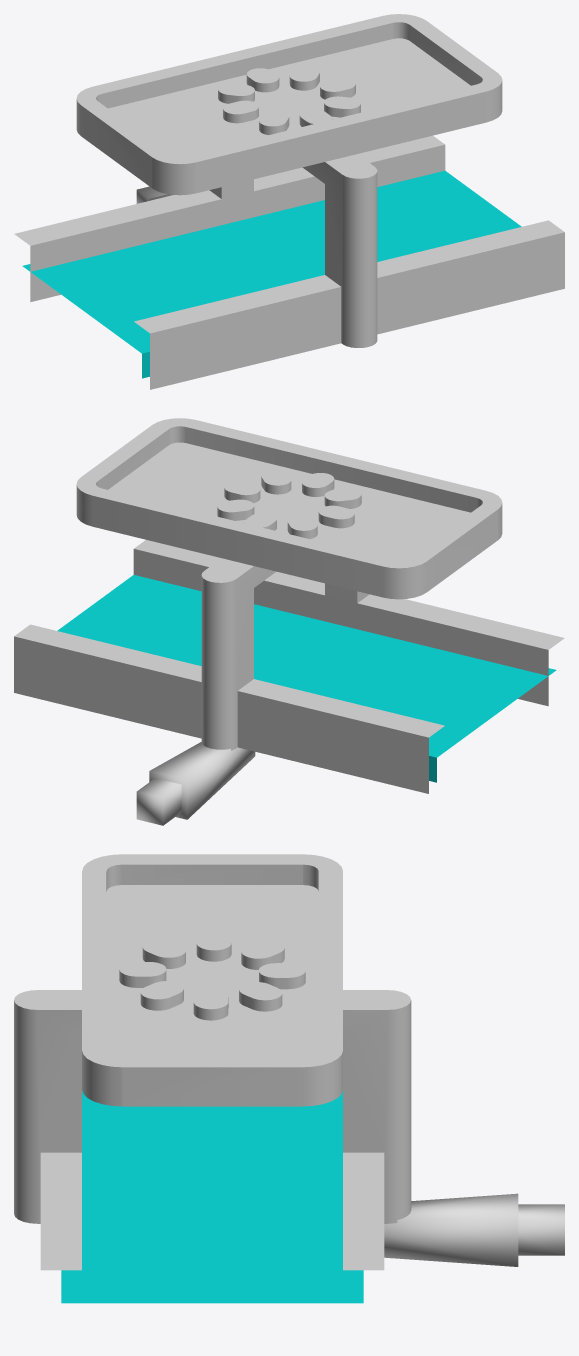
File: BeltReaderDefaultInternalVariant.gltf
3 renders of one model, top to bottom at view 1: azimuth 30°, elevation 25°; view 2: azimuth 150°, elevation 25°; view 3: azimuth 270°, elevation 25°, orthographic. The views are drawn at different scales.
Parts seen in each view (by area): view 1: BeltReader, BeltReaderPlattform, BeltReaderLoading; view 2: BeltReader, BeltReaderPlattform, Wire_IOConnector_Output_LOD0, BeltReaderLoading; view 3: BeltReader, BeltReaderPlattform, Wire_IOConnector_Output_LOD0, BeltReaderLoading.
Part boxes in pixels (<box>): BeltReader: <box>14,135,564,389</box>; BeltReaderPlattform: <box>76,14,502,195</box>; BeltReaderLoading: <box>218,66,360,134</box>; BeltReader: <box>14,540,564,793</box>; BeltReaderPlattform: <box>76,418,502,599</box>; Wire_IOConnector_Output_LOD0: <box>136,742,255,825</box>; BeltReaderLoading: <box>217,470,361,538</box>; BeltReader: <box>14,990,411,1303</box>; BeltReaderPlattform: <box>82,854,342,1106</box>; Wire_IOConnector_Output_LOD0: <box>384,1193,564,1266</box>; BeltReaderLoading: <box>119,930,305,1020</box>.
Bounding box in the file's own units: 1 × 0.5375 × 0.9111.
